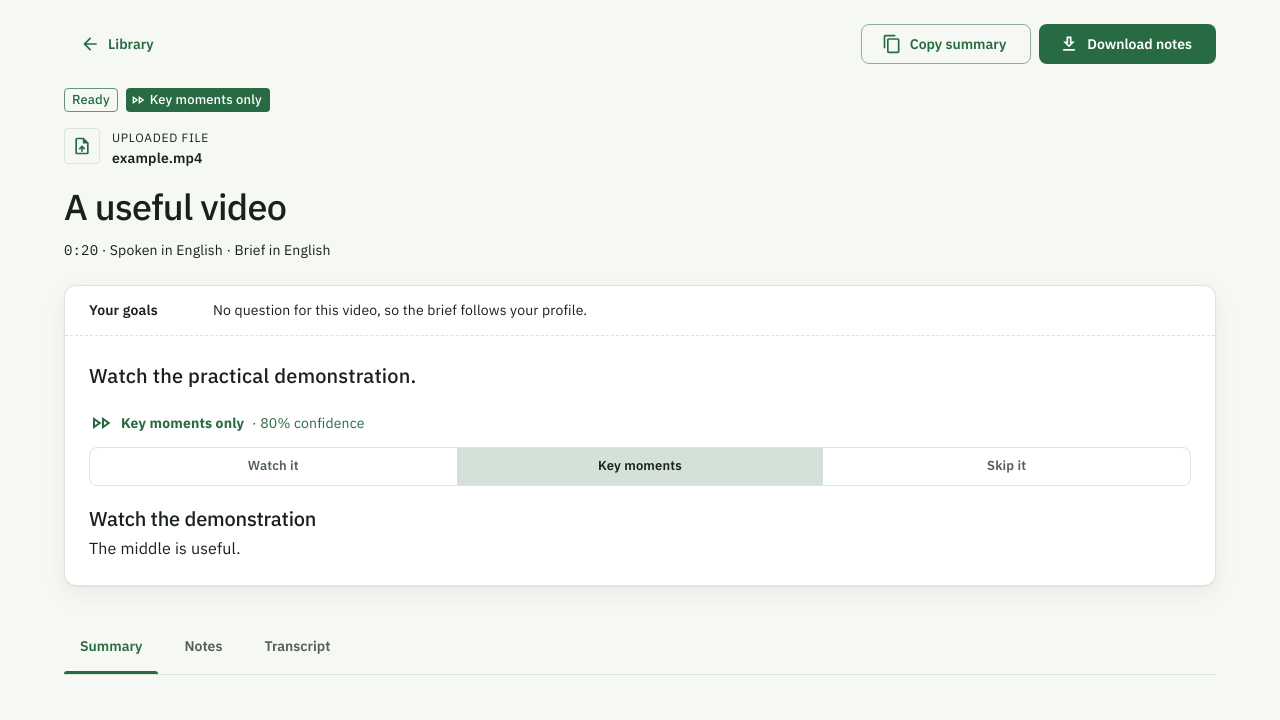
Scenario: Summary result › handles a concise answer without optional notes or next steps
This screenshot has width=1280, height=720.
Click the tab "Notes": {"x": 203, "y": 646} [158, 618, 248, 674]
(page scrolled)
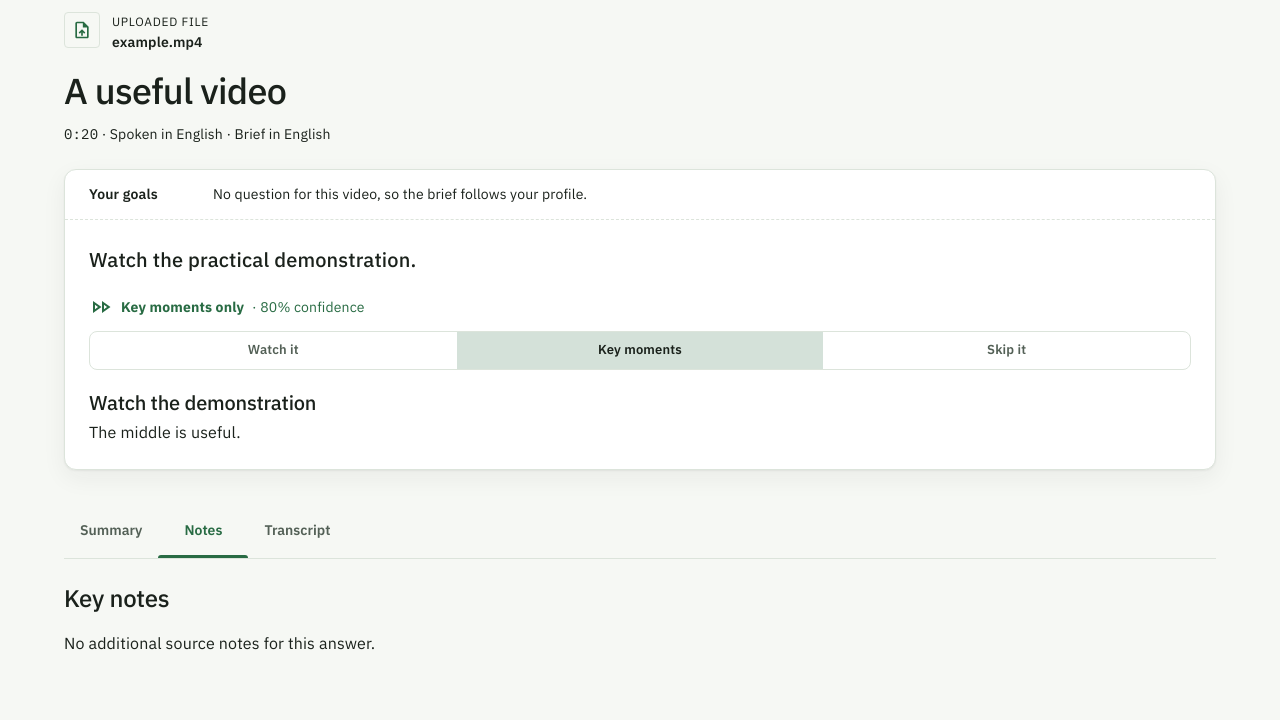
Now the text "No additional source notes for this answer." is shown, box [64, 633, 375, 653]
